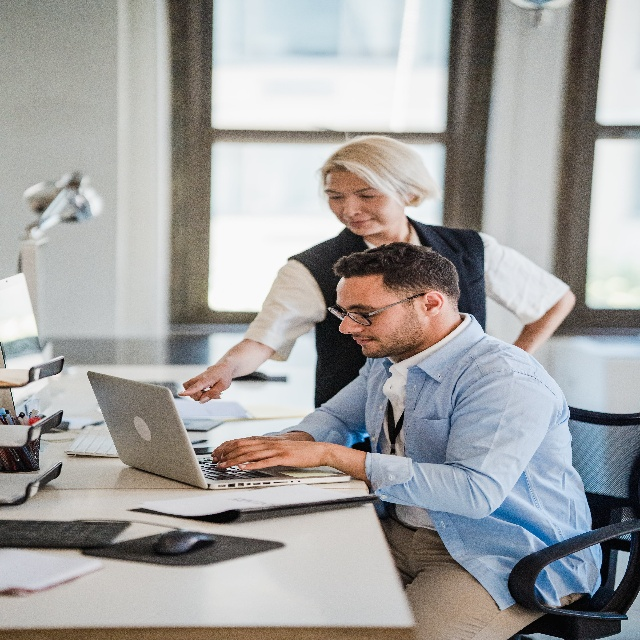Gafas: (327, 291, 429, 327)
Sin_guantes: (215, 433, 328, 472), (176, 362, 235, 405), (211, 437, 239, 464)
